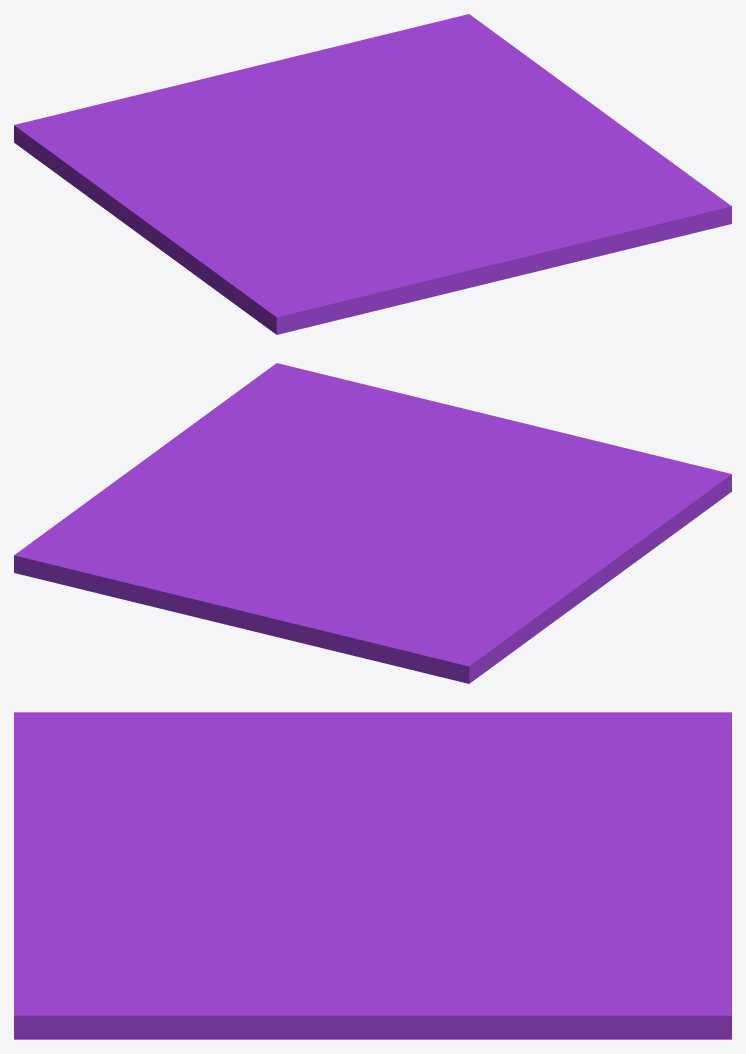
File: Platform_25_chunks.fbx
The picture shows the model from 3 angles, top to bottom: view 1: azimuth 30°, elevation 25°; view 2: azimuth 150°, elevation 25°; view 3: azimuth 270°, elevation 25°; orthographic projection. The views are drawn at different scales.
Visible parts, largest first — view 1: Platform_25_12, Platform_25_0, Platform_25_7, Platform_25_10, Platform_25_4, Platform_25_6, Platform_25_3, Platform_25_1, Platform_25_11, Platform_25_8, Platform_25_5, Platform_25_2 (+1 smaller); view 2: Platform_25_0, Platform_25_12, Platform_25_10, Platform_25_4, Platform_25_7, Platform_25_1, Platform_25_6, Platform_25_3, Platform_25_11, Platform_25_8, Platform_25_5, Platform_25_2 (+1 smaller); view 3: Platform_25_6, Platform_25_7, Platform_25_12, Platform_25_0, Platform_25_4, Platform_25_10, Platform_25_3, Platform_25_1, Platform_25_11, Platform_25_8, Platform_25_5, Platform_25_2 (+1 smaller).
Part boxes in pixels (x1,y1,x2,y2): Platform_25_12: [251, 219, 535, 324]; Platform_25_0: [14, 100, 334, 219]; Platform_25_7: [498, 155, 731, 258]; Platform_25_10: [109, 172, 330, 291]; Platform_25_4: [335, 14, 532, 101]; Platform_25_6: [460, 60, 661, 165]; Platform_25_3: [161, 94, 382, 166]; Platform_25_1: [114, 47, 363, 114]; Platform_25_11: [289, 166, 488, 228]; Platform_25_8: [380, 111, 511, 196]; Platform_25_5: [434, 178, 587, 273]; Platform_25_2: [353, 101, 471, 166]; Platform_25_0: [328, 528, 574, 683]; Platform_25_12: [443, 411, 731, 505]; Platform_25_10: [428, 503, 682, 606]; Platform_25_4: [14, 509, 235, 602]; Platform_25_7: [207, 363, 447, 463]; Platform_25_1: [135, 554, 373, 649]; Platform_25_6: [78, 414, 301, 510]; Platform_25_3: [231, 522, 392, 617]; Platform_25_11: [372, 441, 502, 542]; Platform_25_8: [217, 462, 406, 511]; Platform_25_5: [336, 405, 472, 476]; Platform_25_2: [193, 510, 383, 543]; Platform_25_6: [178, 934, 578, 1039]; Platform_25_7: [14, 901, 278, 1039]; Platform_25_12: [14, 712, 252, 884]; Platform_25_0: [398, 712, 731, 844]; Platform_25_4: [483, 908, 731, 1039]; Platform_25_10: [149, 712, 471, 817]; Platform_25_3: [386, 793, 660, 912]; Platform_25_1: [580, 779, 731, 925]; Platform_25_11: [119, 806, 412, 879]; Platform_25_8: [244, 866, 466, 944]; Platform_25_5: [14, 873, 252, 918]; Platform_25_2: [366, 853, 545, 957].
Size of the model in its own units: 810 by 29.87 by 810.
